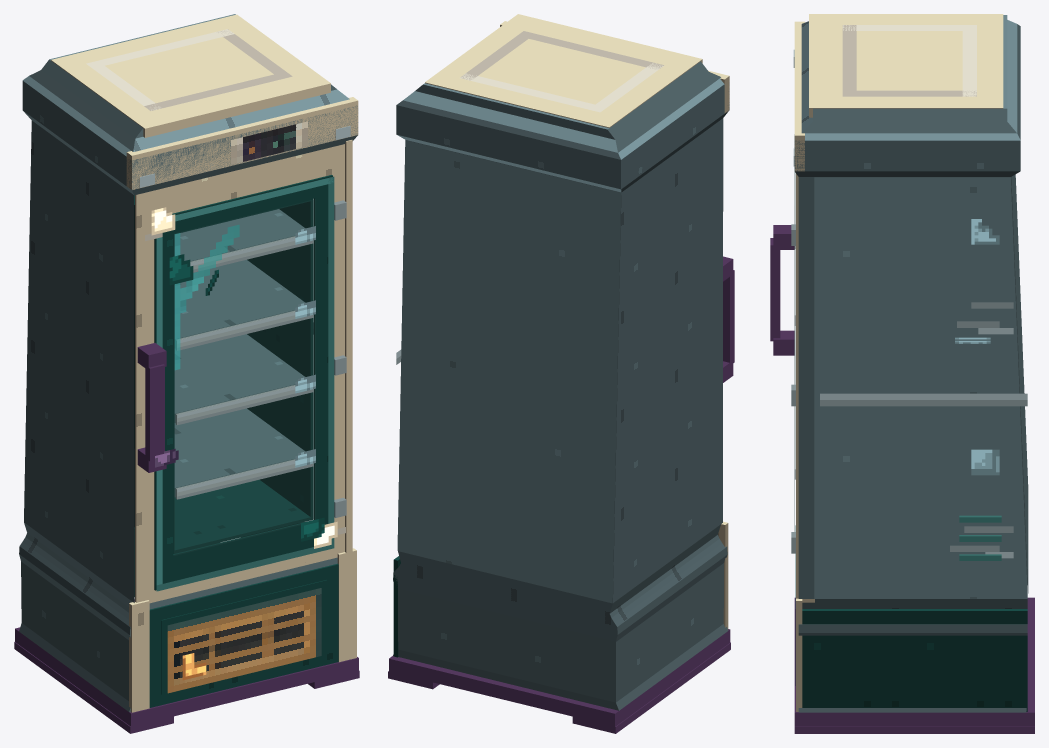
Rendered from vaccine-fridge-style-fit-v7.glb.
3 renders of one model, left to right at view 1: azimuth 30°, elevation 25°; view 2: azimuth 150°, elevation 25°; view 3: azimuth 270°, elevation 25°, orthographic. The views are drawn at different scales.
Visible parts, largest first — view 1: source_hull, front_glass, nano_tile_top_surface, fixed_grille, cavity_right, crown_fascia, condenser_front_panel, cream_frame_left, shelf_48, shelf_36, shelf_60, cavity_floor (+34 smaller); view 2: source_hull, nano_tile_back_panel, nano_tile_top_surface, plinth_rail, foot_left, handle_grip, roof_inset_front_dark, roof_inset_back_light, roof_inset_left_light, roof_inset_right_dark, base_corner_left; view 3: nano_tile_side_panel, source_hull, side_base_panel_right, nano_tile_top_surface, plinth_rail, foot_right, nano_tile_back_panel, side_panel_semantic_seam_dark, side_panel_semantic_seam_light, crown_fascia, cream_corner_right, roof_inset_front_dark (+9 smaller).
Boxes of the visible parts, x1=… form: source_hull: x1=19, y1=14, x2=358, y2=711; front_glass: x1=174, y1=199, x2=315, y2=555; nano_tile_top_surface: x1=51, y1=14, x2=330, y2=128; fixed_grille: x1=167, y1=588, x2=321, y2=693; cavity_right: x1=247, y1=200, x2=313, y2=518; crown_fascia: x1=126, y1=97, x2=358, y2=189; condenser_front_panel: x1=149, y1=563, x2=338, y2=707; cream_frame_left: x1=135, y1=190, x2=154, y2=603; shelf_48: x1=174, y1=334, x2=304, y2=422; shelf_36: x1=174, y1=408, x2=304, y2=496; shelf_60: x1=175, y1=260, x2=305, y2=347; cavity_floor: x1=173, y1=480, x2=313, y2=553; source_hull: x1=393, y1=61, x2=729, y2=710; nano_tile_back_panel: x1=397, y1=140, x2=621, y2=603; nano_tile_top_surface: x1=425, y1=14, x2=701, y2=127; plinth_rail: x1=389, y1=629, x2=730, y2=726; foot_left: x1=572, y1=642, x2=730, y2=733; handle_grip: x1=723, y1=270, x2=734, y2=365; roof_inset_front_dark: x1=517, y1=31, x2=663, y2=69; roof_inset_back_light: x1=460, y1=73, x2=606, y2=112; roof_inset_left_light: x1=590, y1=63, x2=663, y2=111; roof_inset_right_dark: x1=460, y1=31, x2=528, y2=80; base_corner_left: x1=718, y1=521, x2=728, y2=629; nano_tile_side_panel: x1=814, y1=177, x2=1027, y2=598; source_hull: x1=794, y1=15, x2=1027, y2=712; side_base_panel_right: x1=802, y1=609, x2=1027, y2=711; nano_tile_top_surface: x1=809, y1=14, x2=1003, y2=107; plinth_rail: x1=794, y1=597, x2=1034, y2=726; foot_right: x1=794, y1=726, x2=1034, y2=733; nano_tile_back_panel: x1=1011, y1=174, x2=1028, y2=593; side_panel_semantic_seam_dark: x1=820, y1=400, x2=1027, y2=406; side_panel_semantic_seam_light: x1=820, y1=393, x2=1027, y2=399; crown_fascia: x1=794, y1=21, x2=804, y2=171; cream_corner_right: x1=796, y1=174, x2=814, y2=602; roof_inset_front_dark: x1=842, y1=25, x2=856, y2=96.
Size of the model in its own units: 1.21 by 3 by 1.17.
Materials: 30 (14 with a texture image).
